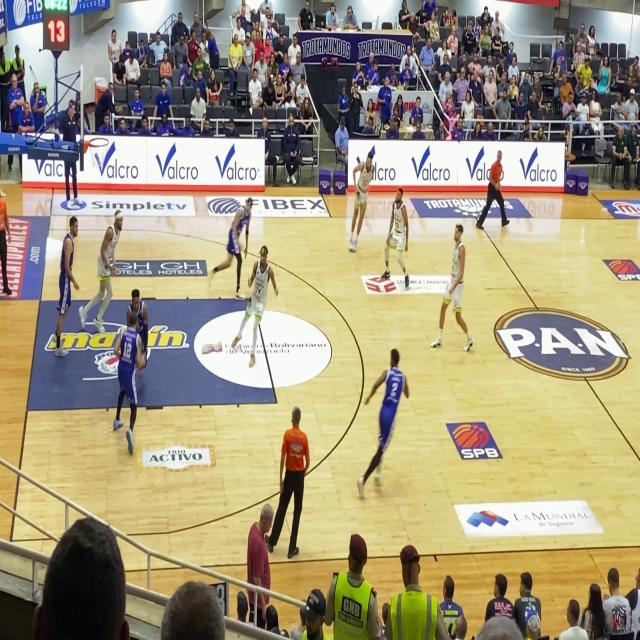referee: (272, 385, 315, 559), (480, 144, 511, 246)
team1: (438, 222, 476, 362), (377, 184, 412, 289), (351, 136, 375, 260)
team2: (365, 335, 420, 501), (47, 197, 84, 357), (239, 238, 279, 379), (112, 305, 140, 447), (94, 197, 120, 342), (222, 193, 255, 303), (130, 283, 151, 393)
ubasket: (86, 136, 110, 152)
